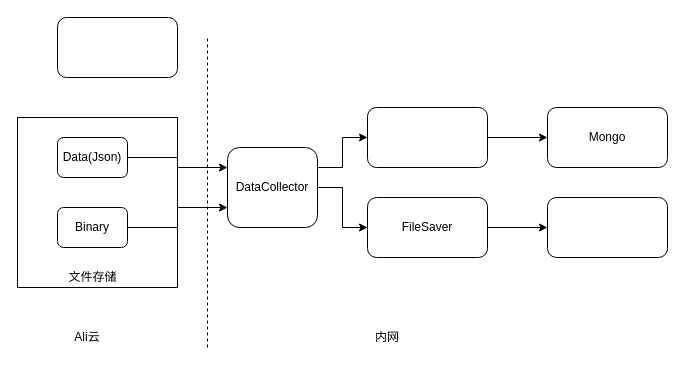
Some shapes in this 685 by 366 pixel diagram are drawn without their labels. Here are the shapes that lost their labels. From the top down, the centre of each, then its label:
At [117,47]: "Spider".
At [427,137]: "DBSaver".
At [607,227]: "FastDFS".
